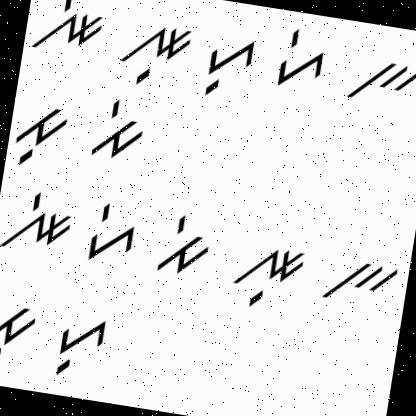he: (268, 20, 333, 95), (83, 193, 143, 270)
hu: (194, 26, 262, 106), (47, 307, 114, 388)
mbe: (150, 200, 223, 286), (80, 92, 150, 166)
mbu: (8, 94, 76, 178), (0, 290, 44, 374)
nde: (0, 184, 80, 257), (28, 0, 111, 64)
ndu: (222, 230, 311, 314), (110, 8, 194, 92)
